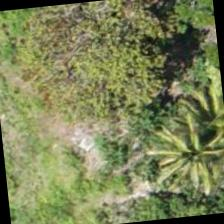Kelapa_Sawit: (142, 108, 223, 208)
